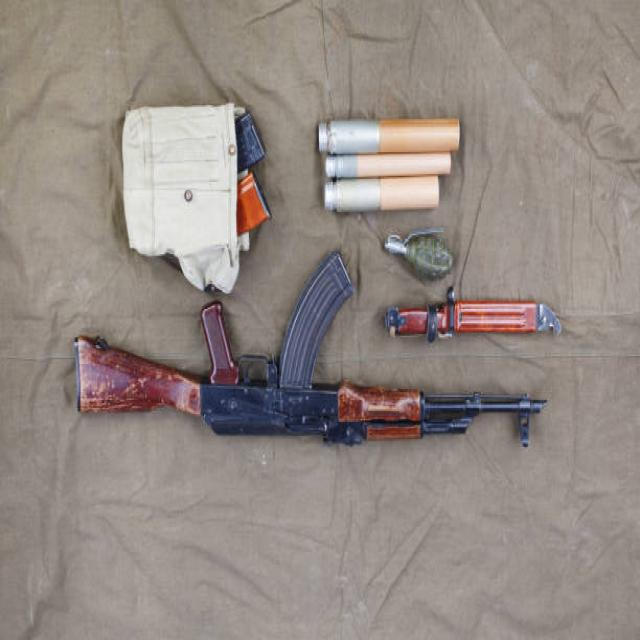grenade: (382, 226, 457, 287)
